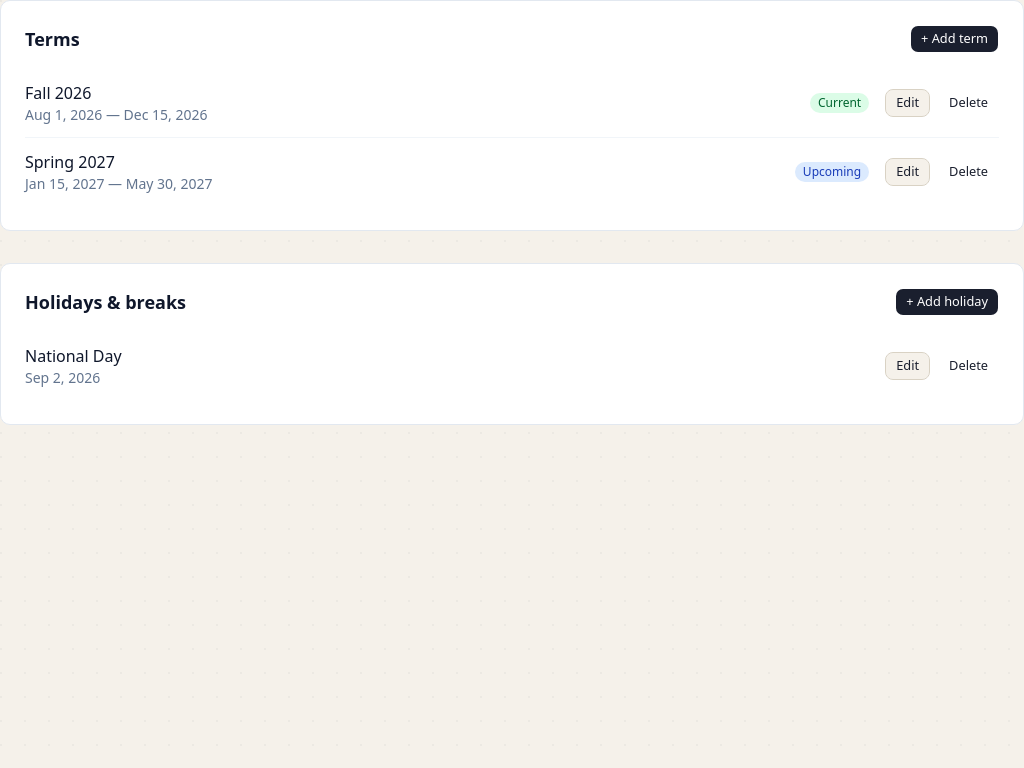
it: TermCalendarTab — AC5 CRUD via shadcn Dialog › Add term button opens Dialog with name/start/end inputs
Expected: the panel with test id "settings-tabpanel-terms" is shown, [0,0,1023,425]
Click the button "+ Add term".
click(954, 39)  # box [910,25,999,53]
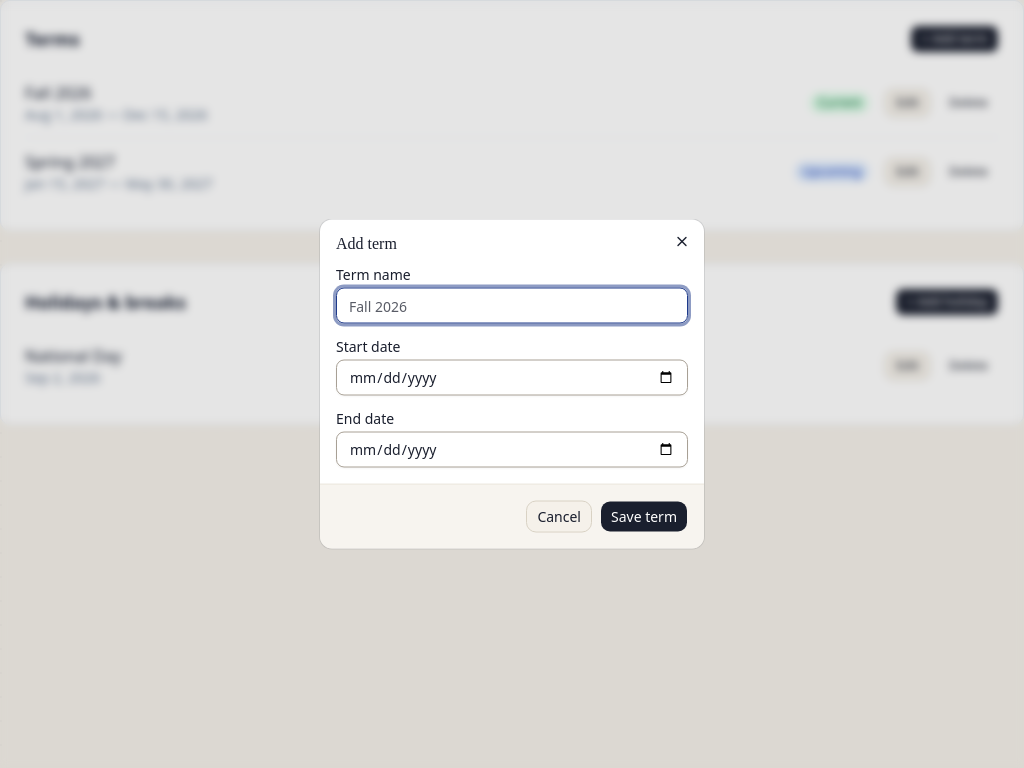
Now the field labelled "Term name" is shown, box [336,288,688,324]
Now the date field labelled "Start date" is shown, box [336,360,688,396]
Now the date field labelled "End date" is shown, box [336,432,688,468]
